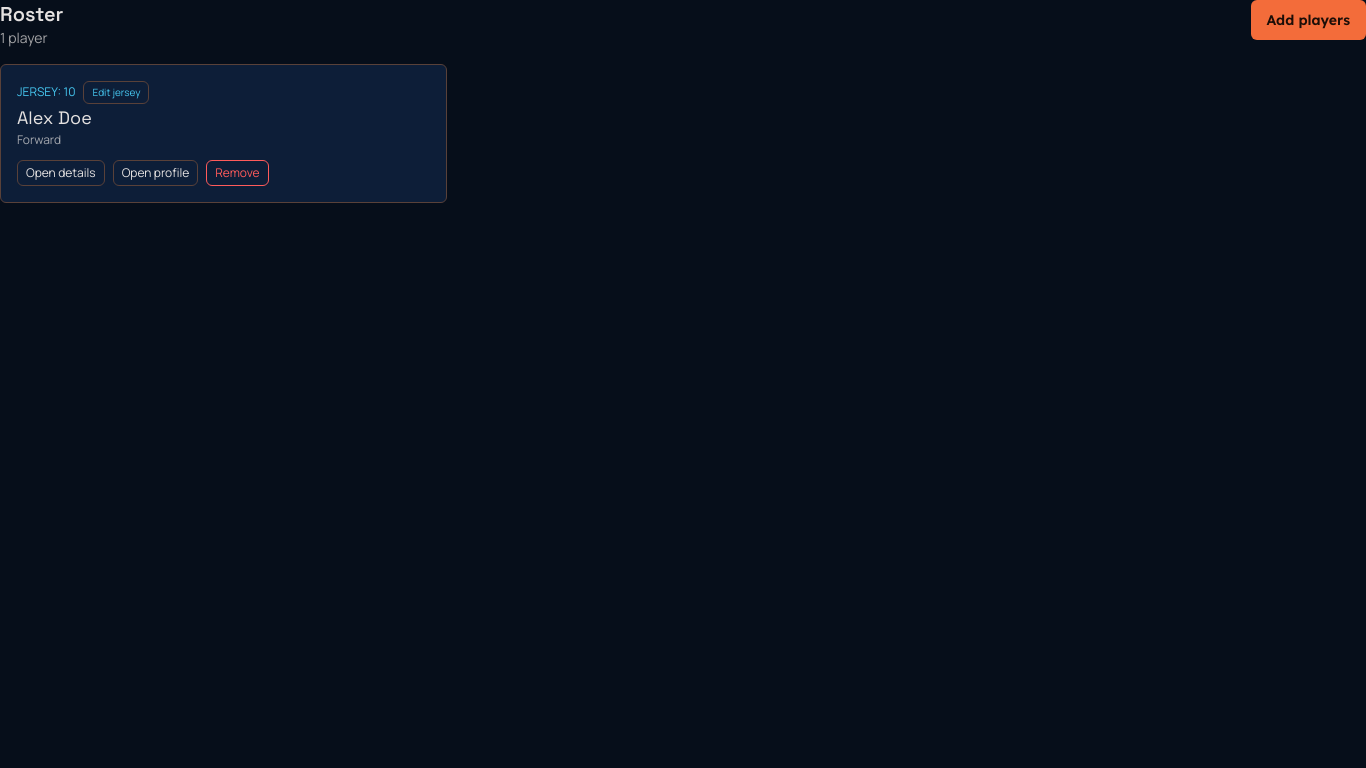
it: TeamRosterManager › removes a player only after confirmation and refreshes the route
Click the button "Remove" at (237, 173), box [206,160,269,186]
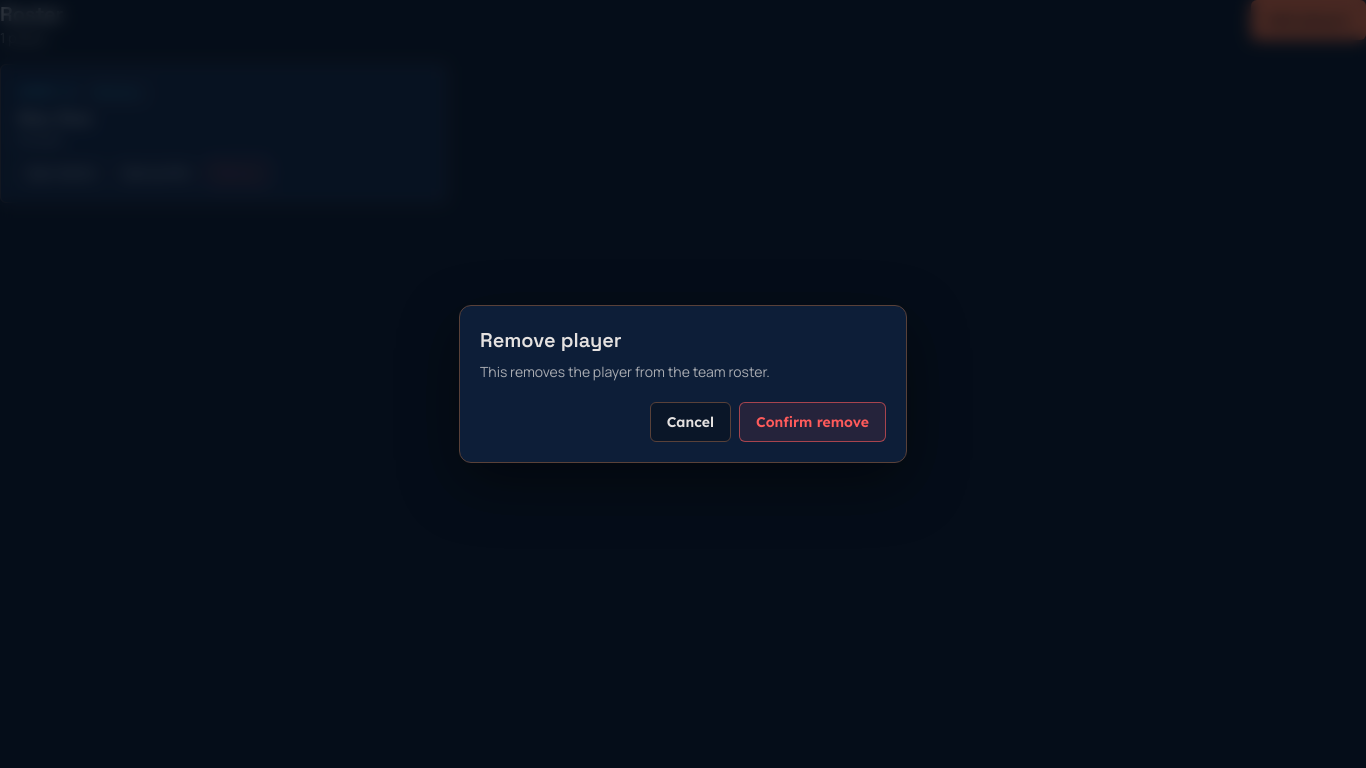
Click the button "Confirm remove" at (812, 422), box [739,402,886,442]
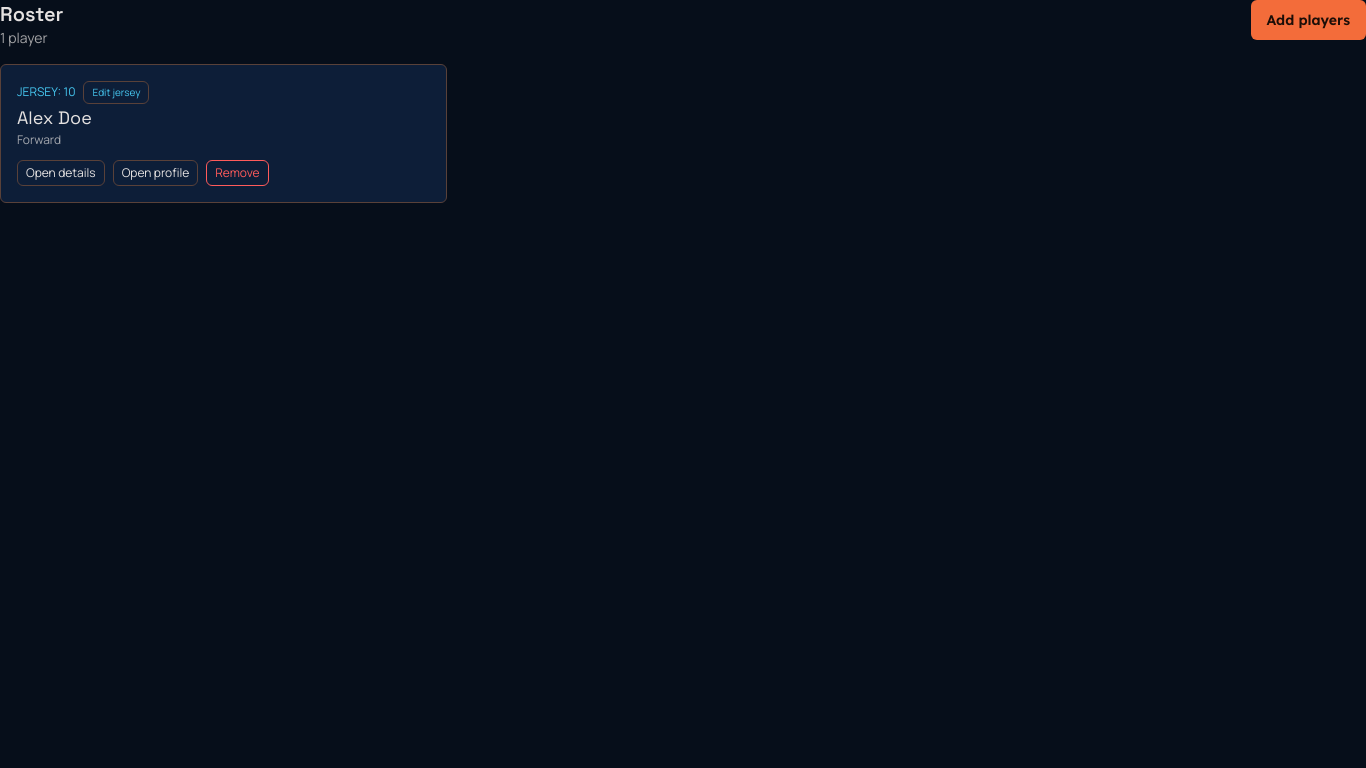
Now the dialog is gone
